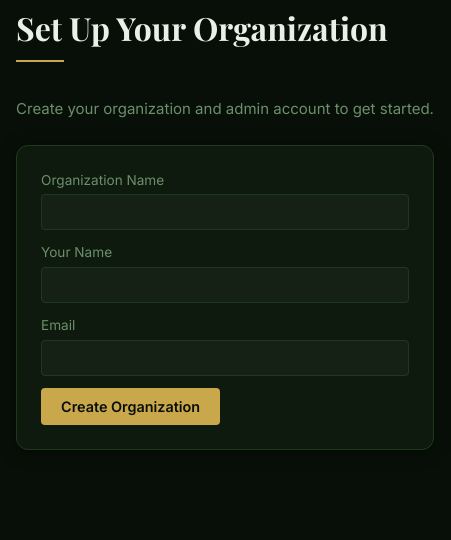
Test: OrgSetupPage › shows validation errors when submitting empty form
This screenshot has width=451, height=540.
Click the button "Create Organization".
click(131, 407)  # box x1=41 y1=388 x2=220 y2=425
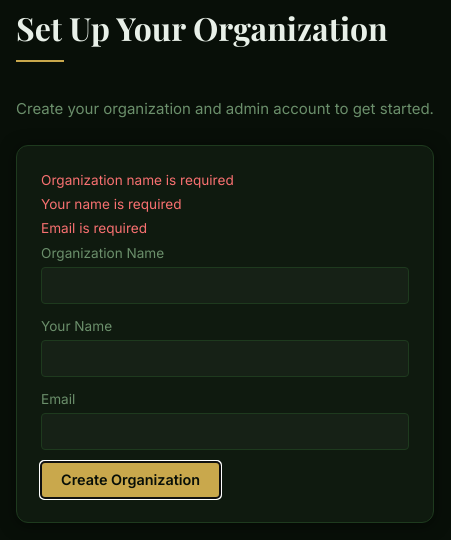
Expected: the text "Organization name is required" is shown, x1=41 y1=172 x2=234 y2=188
Expected: the text "Your name is required" is shown, x1=41 y1=196 x2=182 y2=212
Expected: the text "Email is required" is shown, x1=41 y1=220 x2=147 y2=236
